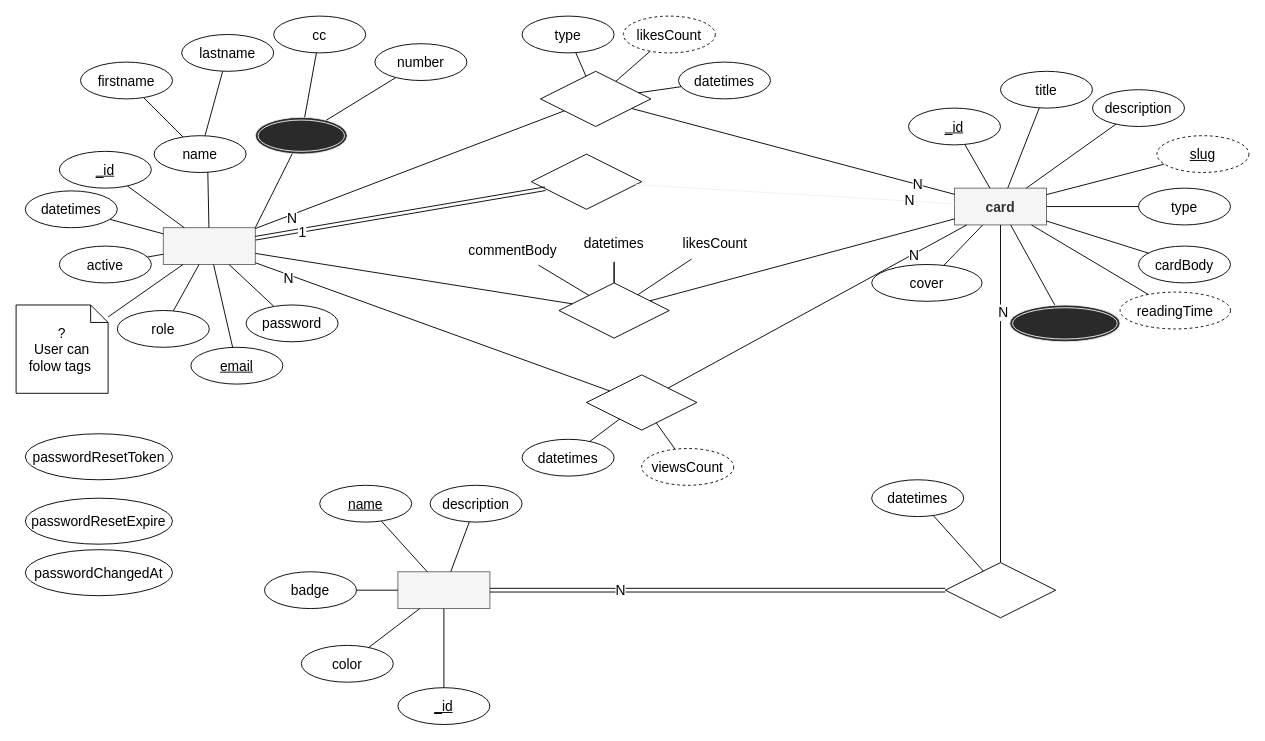
The diagram is 1265 pixels wide and 741 high, and some of its shapes have lost their labels. The shapes that lost their labels are listed below. From the top down, each one's centre as x and y in pixels, then its label:
the point at 595,98: Like
the point at 300,135: phone
the point at 586,181: Create
the point at 208,245: User
the point at 613,310: Comment
the point at 1064,323: images
the point at 641,402: View
the point at 443,590: Tag
the point at 1000,590: Belongs
